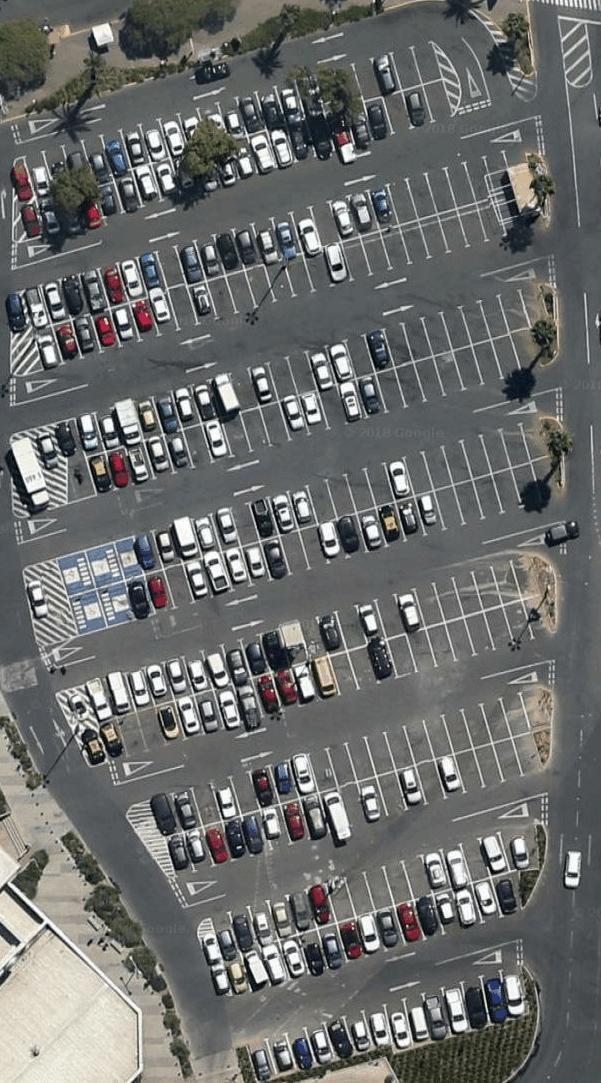parkingspot: (5, 149, 514, 334), (55, 414, 555, 600), (66, 453, 564, 639), (53, 282, 553, 459), (31, 195, 508, 374), (80, 592, 555, 770), (68, 553, 543, 728), (84, 325, 545, 499), (19, 77, 456, 243), (13, 38, 445, 202), (149, 685, 554, 840), (163, 730, 546, 880), (201, 823, 540, 963), (208, 870, 523, 996), (245, 962, 527, 1082)
